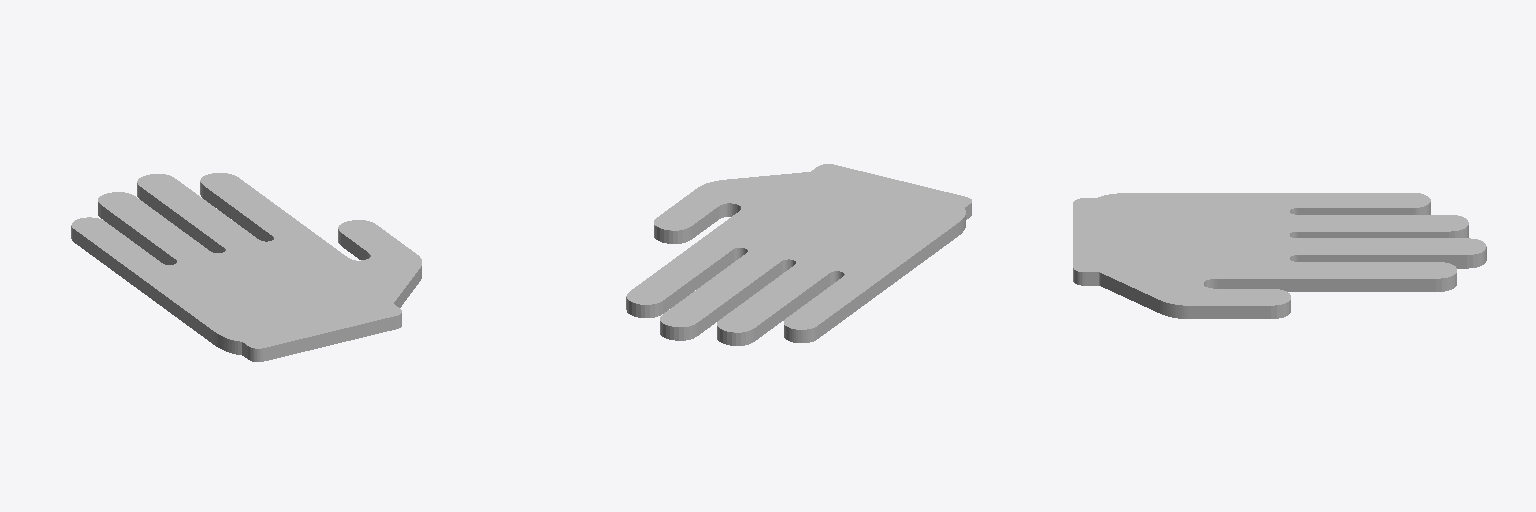
File: speed1.obj
3 renders of one model, left to right at view 1: azimuth 30°, elevation 25°; view 2: azimuth 150°, elevation 25°; view 3: azimuth 270°, elevation 25°, orthographic.
Visible parts, largest first — view 1: Curve; view 2: Curve; view 3: Curve.
Boxes of the visible parts, x1=… form: Curve: x1=71, y1=173, x2=421, y2=361; Curve: x1=626, y1=164, x2=971, y2=345; Curve: x1=1073, y1=193, x2=1486, y2=318.
Bounding box in the file's own units: 5.39 × 0.3 × 8.33.